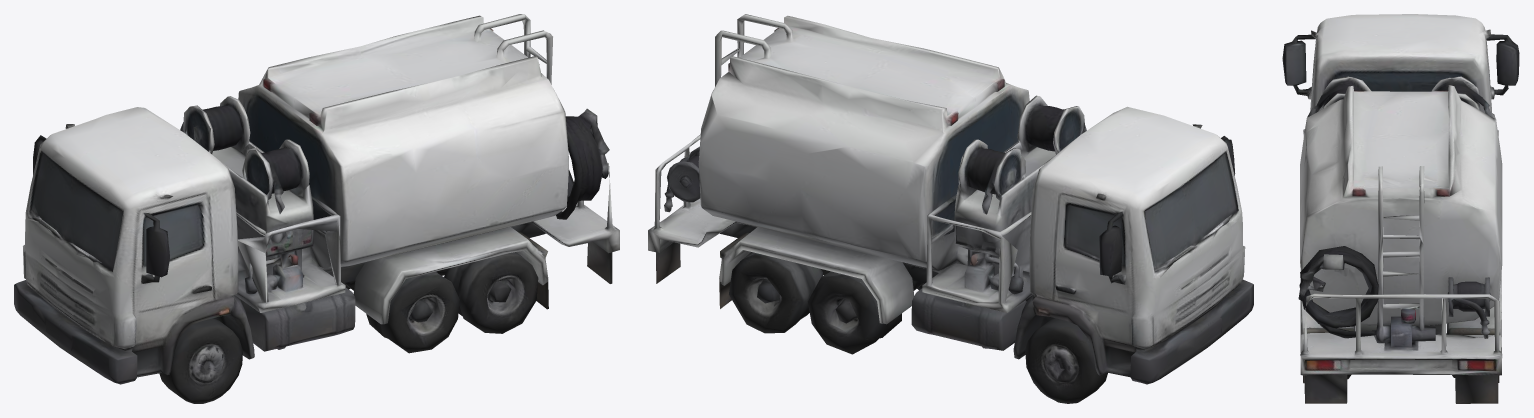
File: airport_fuel_truck.glb
3 views of the same model, side by side, from view 1: azimuth 30°, elevation 25°; view 2: azimuth 150°, elevation 25°; view 3: azimuth 270°, elevation 25° (orthographic). The views are drawn at different scales.
Visible parts, largest first — view 1: tripo_node_4e52fae5-b3b4-4af2-a62e-d636b97488d3; view 2: tripo_node_4e52fae5-b3b4-4af2-a62e-d636b97488d3; view 3: tripo_node_4e52fae5-b3b4-4af2-a62e-d636b97488d3.
Boxes of the visible parts, left/top/right/bottom form: tripo_node_4e52fae5-b3b4-4af2-a62e-d636b97488d3: left=14, top=14, right=619, bottom=403; tripo_node_4e52fae5-b3b4-4af2-a62e-d636b97488d3: left=648, top=14, right=1253, bottom=403; tripo_node_4e52fae5-b3b4-4af2-a62e-d636b97488d3: left=1282, top=14, right=1519, bottom=403.
Size of the model in its own units: 1 by 0.476 by 0.4446.
Materials: 1 (1 with a texture image).
